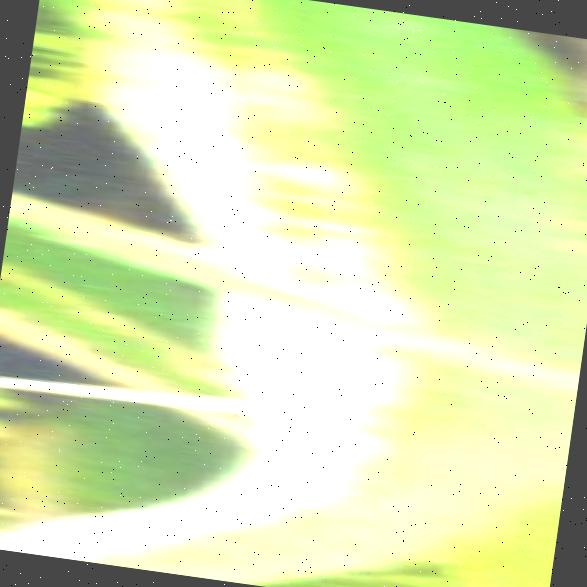Bacteria_Leaf_Blight: (101, 0, 587, 578)
